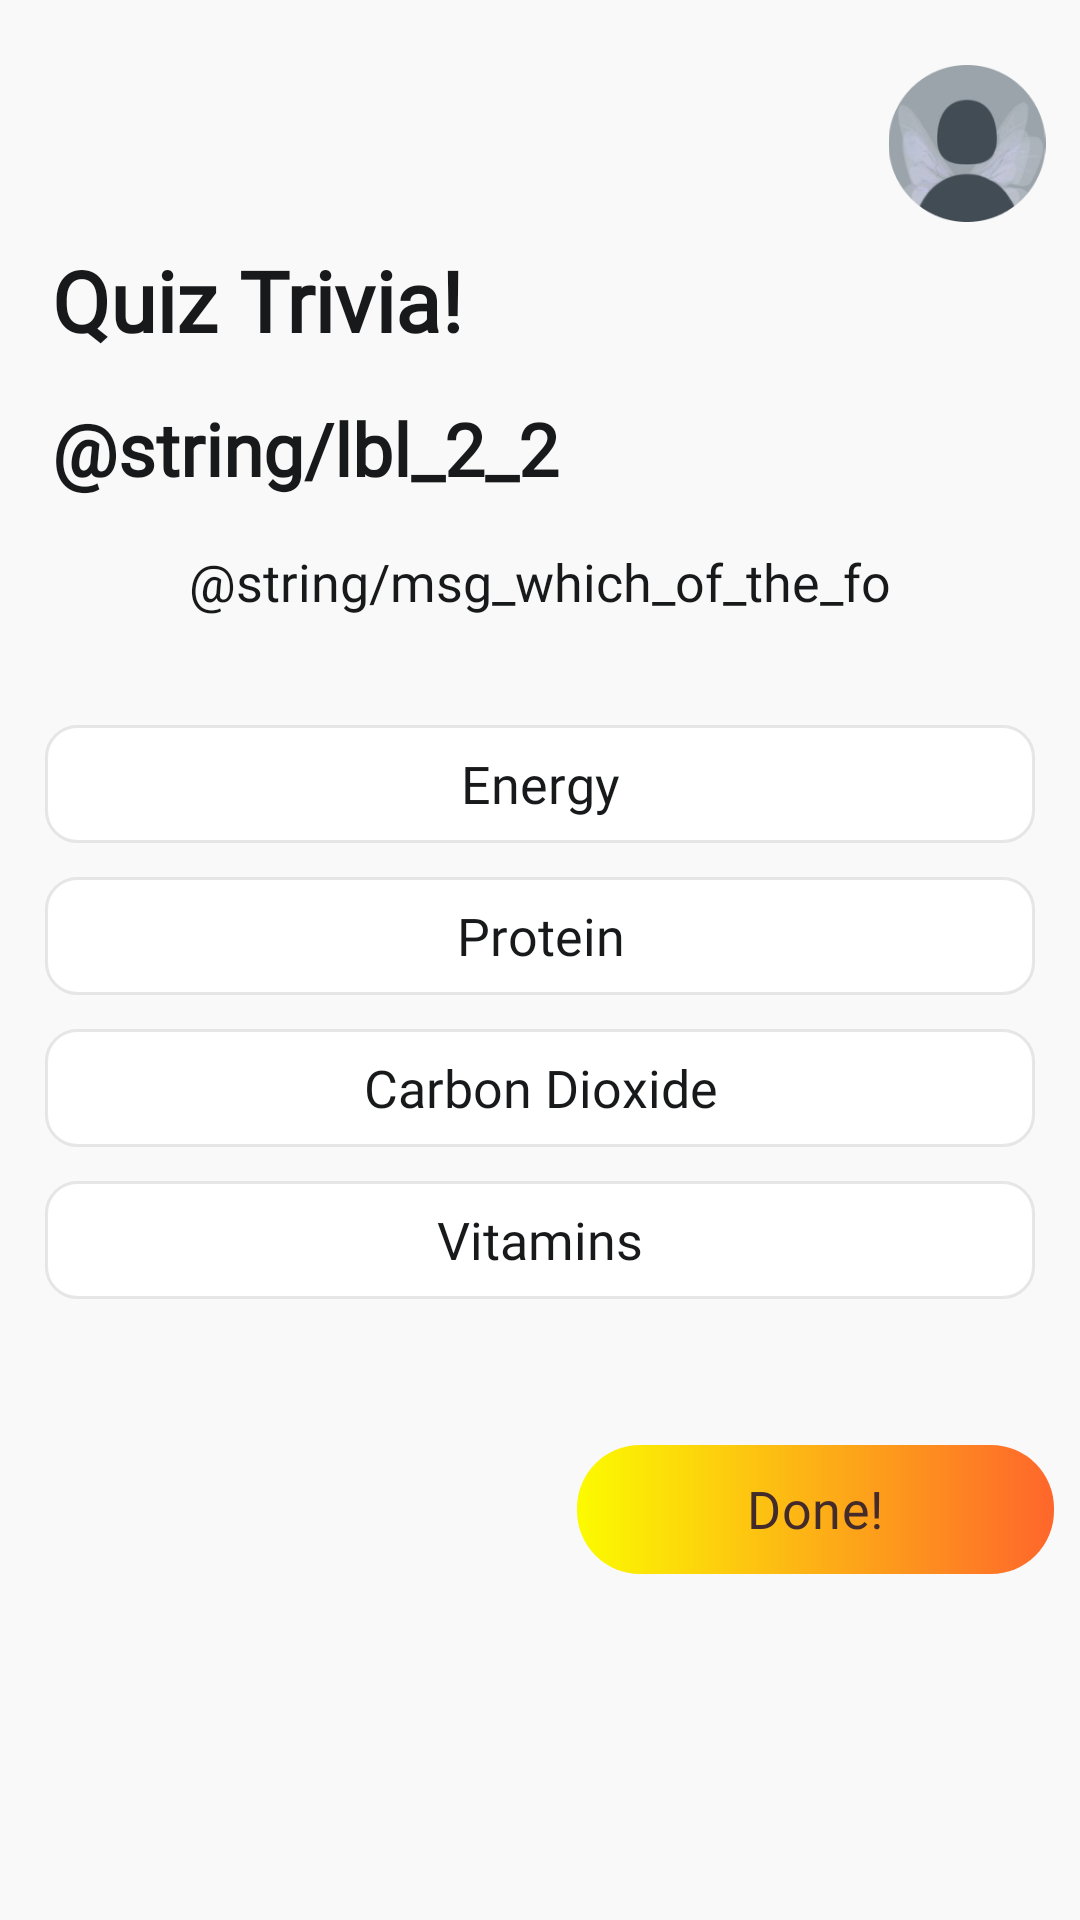

Icon bounding boxes for this 1080 × 1920 phone screenshot, format (x1, y1, x2, y2):
profilepic: (889, 65, 1046, 222)
